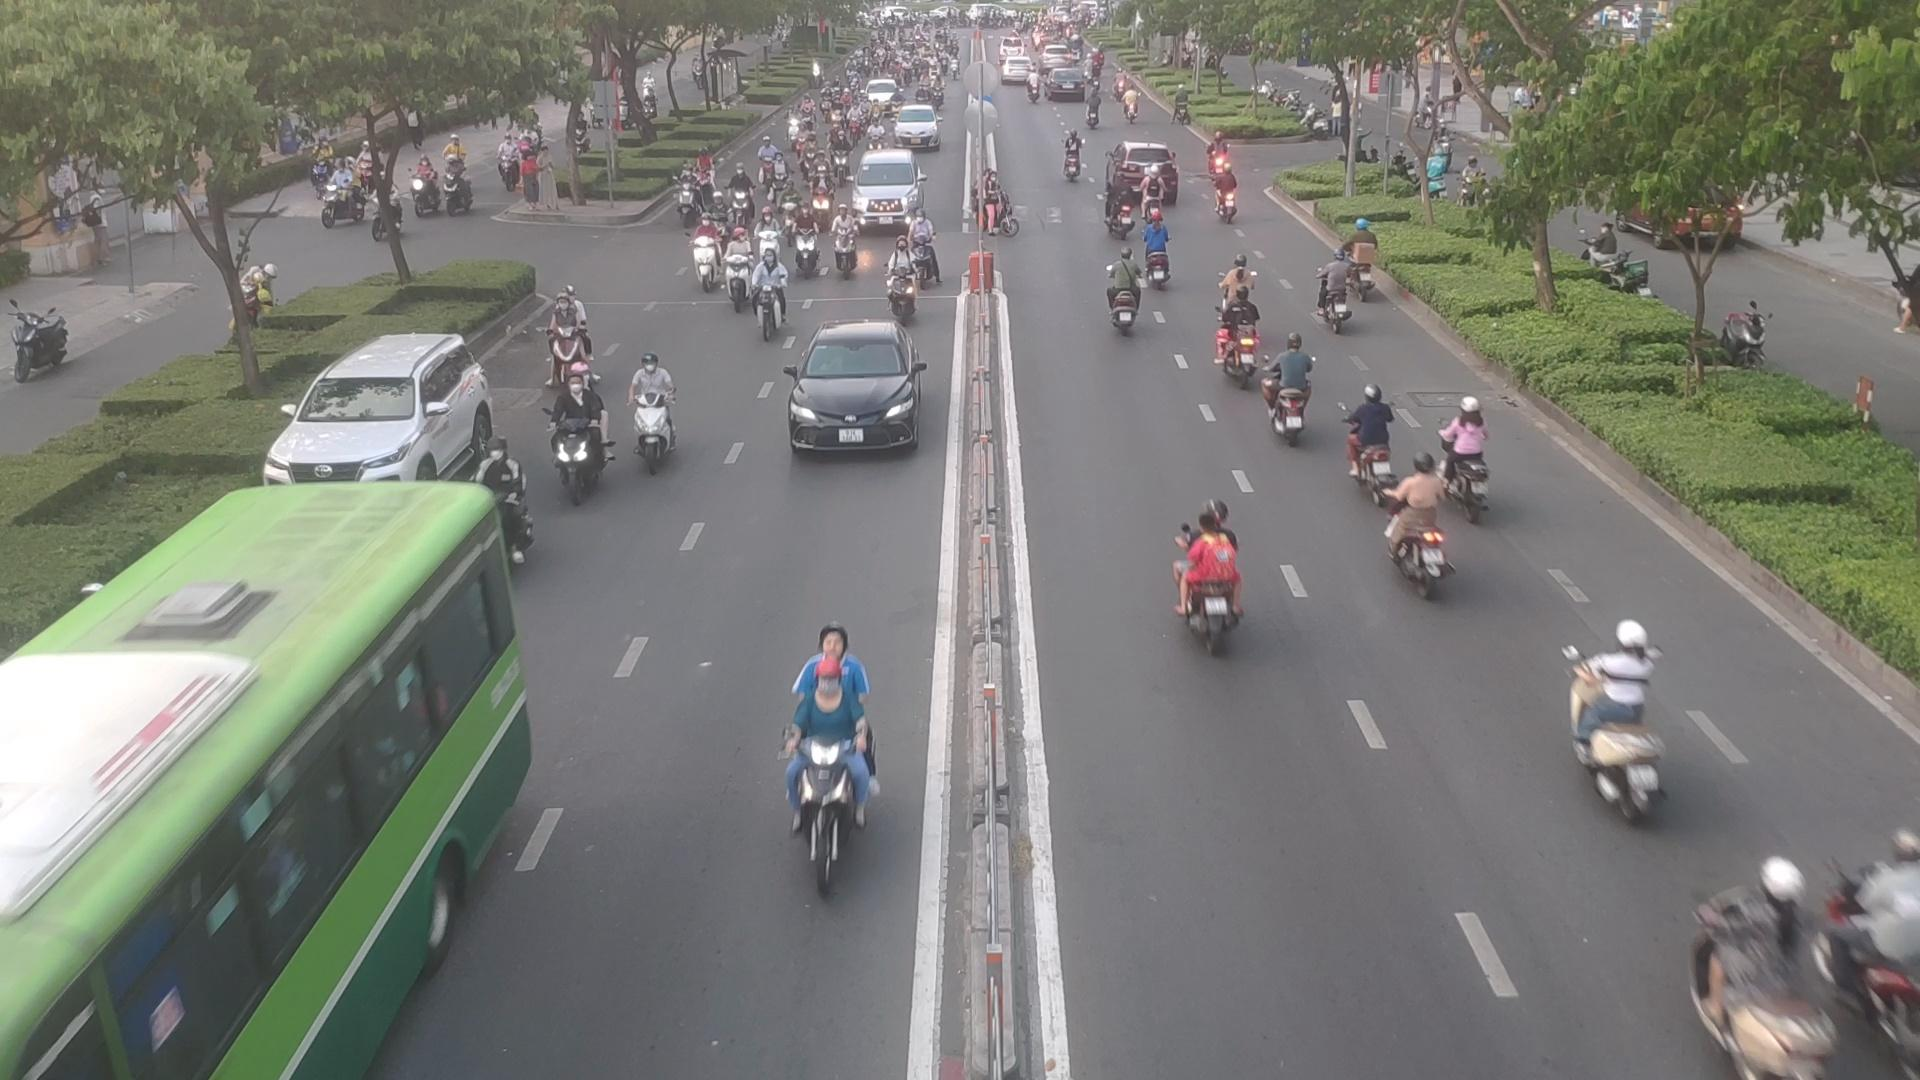bus: (0, 487, 529, 1080)
car: (270, 330, 512, 485), (779, 324, 924, 456)
motorbike: (1680, 851, 1871, 1077), (767, 644, 882, 886), (1569, 620, 1681, 815), (1174, 502, 1261, 649), (1386, 465, 1473, 600), (553, 360, 618, 502), (1443, 392, 1502, 516), (1342, 385, 1408, 493), (626, 356, 688, 465), (1218, 268, 1273, 386), (1319, 236, 1385, 328), (1266, 330, 1313, 436), (546, 289, 604, 373), (814, 194, 868, 280), (1095, 255, 1150, 338), (1095, 161, 1149, 241), (793, 199, 848, 277), (688, 215, 738, 291), (971, 177, 1025, 243), (884, 233, 920, 326), (753, 241, 787, 334), (1139, 220, 1180, 287), (1056, 135, 1091, 185)
